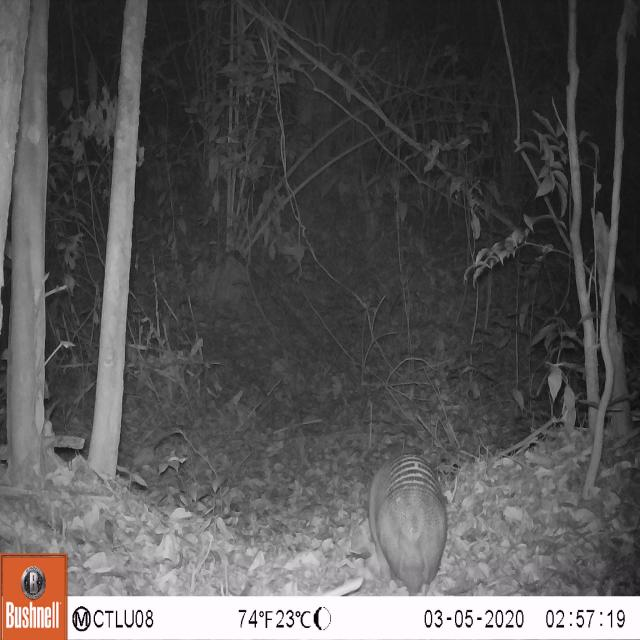Armadillo: (354, 431, 460, 599)
